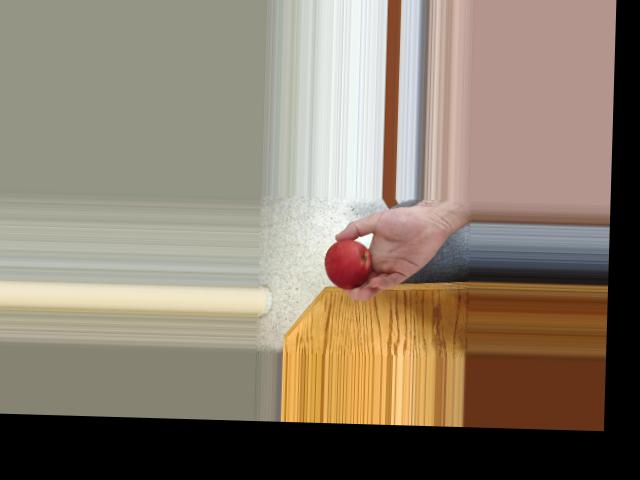apple: (324, 236, 376, 290)
